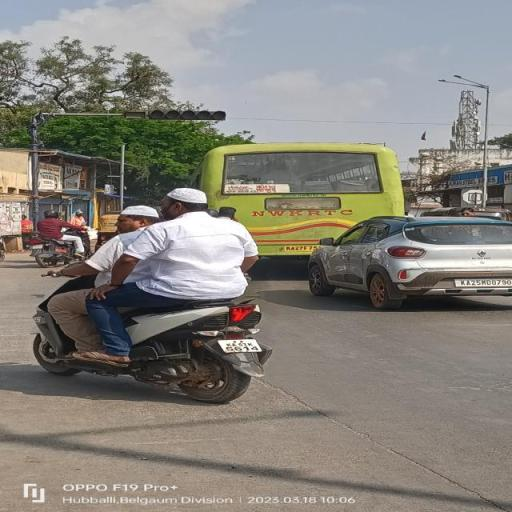bike: (26, 185, 275, 402)
numberplate: (218, 334, 262, 356)
withouthelmet: (165, 190, 208, 214), (121, 206, 156, 228)
